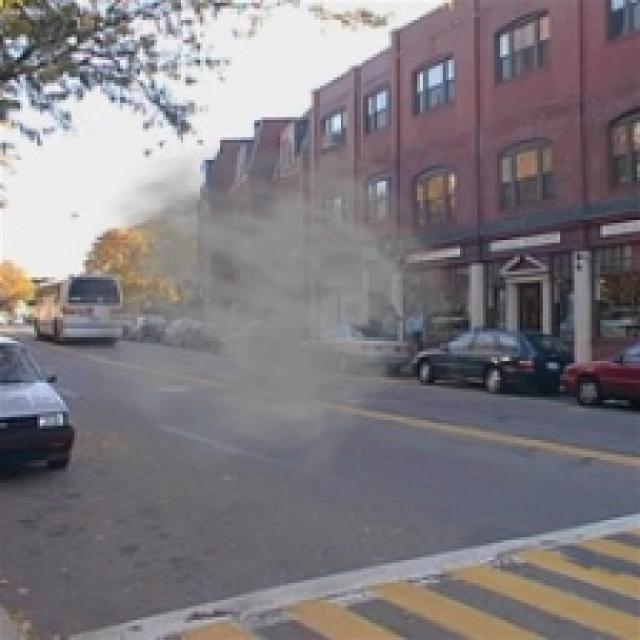smoke: (49, 129, 457, 480)
